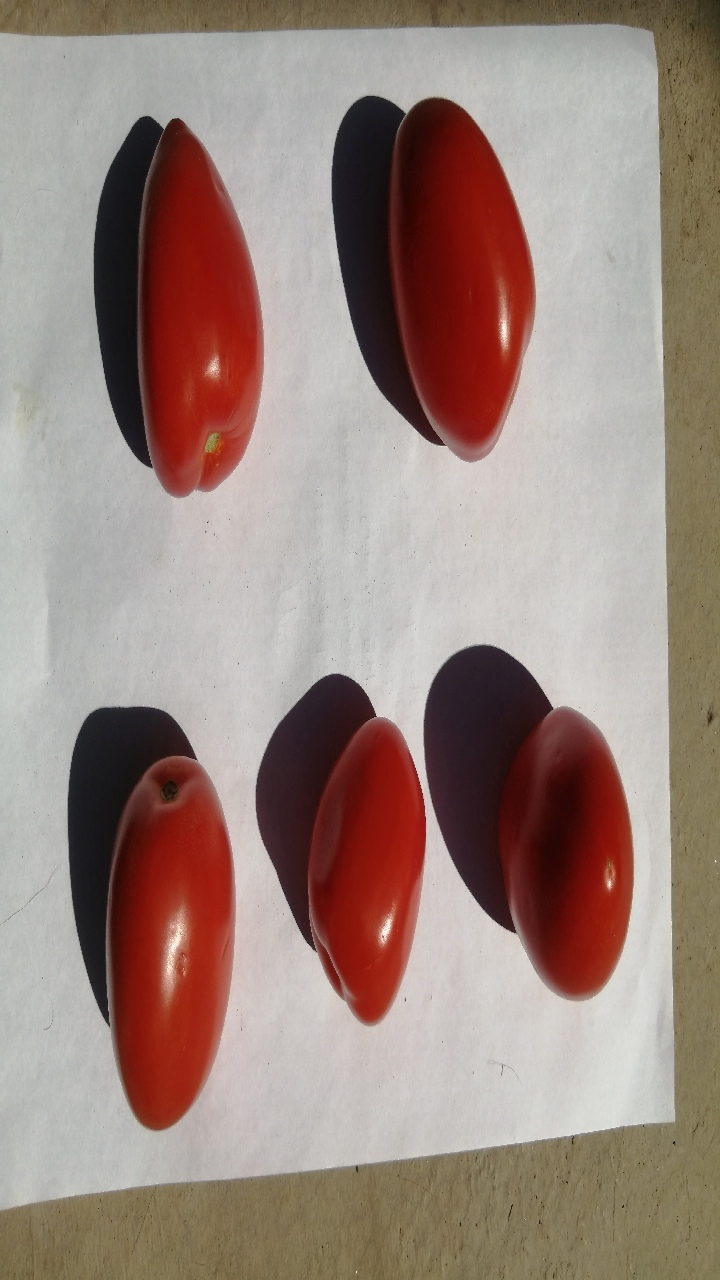tomateRojo: (340, 74, 597, 503), (89, 112, 320, 534), (69, 722, 254, 1145), (478, 649, 651, 1034), (288, 680, 437, 1035)
